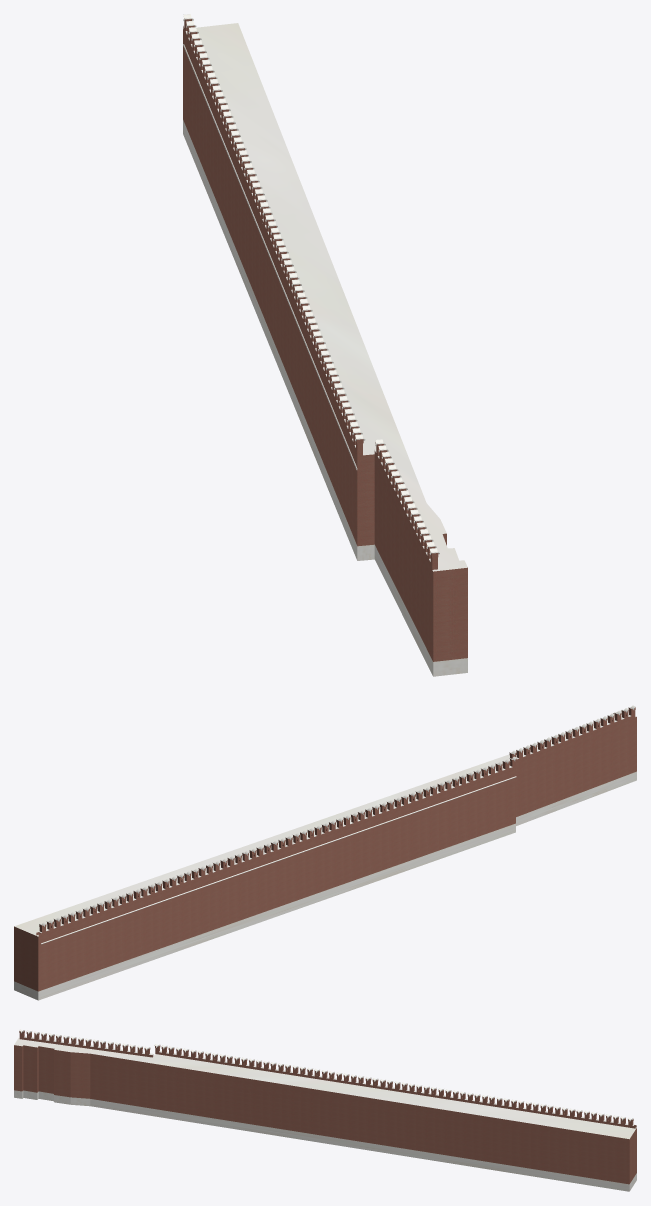
File: 01080_Kremlyovskaya_stena_10.FBX
3 renders of one model, top to bottom at view 1: azimuth 30°, elevation 25°; view 2: azimuth 150°, elevation 25°; view 3: azimuth 270°, elevation 25°, orthographic. The views are drawn at different scales.
Visible parts, largest first — view 1: Group_591, Group_593, Group_001, Group_002; view 2: Group_591, Group_001, Group_593, Group_592, Group_002; view 3: Group_591, Group_593, Group_001, Group_592.
Part boxes in pixels (x1,y1,x2,y2): Group_591: (183, 29, 467, 661); Group_593: (196, 23, 467, 571); Group_001: (183, 120, 467, 676); Group_002: (183, 44, 357, 469); Group_591: (14, 713, 636, 991); Group_001: (14, 771, 636, 1000); Group_593: (14, 710, 636, 936); Group_592: (36, 716, 631, 936); Group_002: (41, 776, 516, 944); Group_591: (14, 1045, 636, 1184); Group_593: (14, 1038, 636, 1139); Group_001: (14, 1090, 636, 1191); Group_592: (23, 1037, 636, 1128).
Size of the model in its own units: 58.68 by 16.52 by 152.
Materials: 2 (2 with a texture image).
